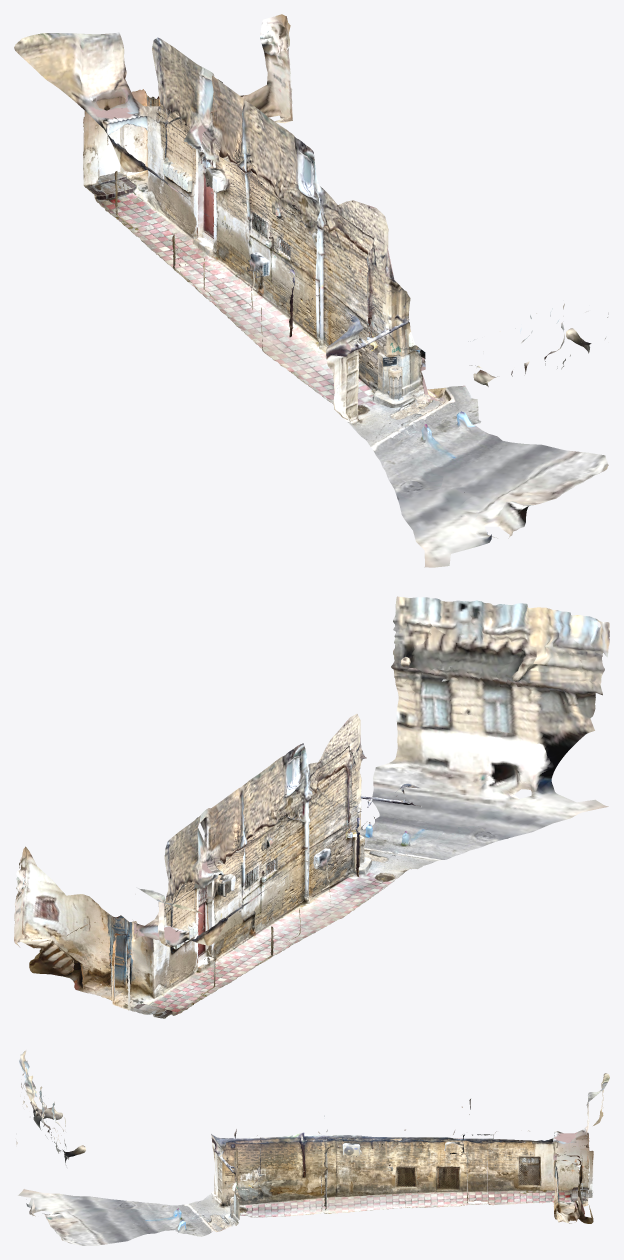
The picture shows the model from 3 angles, top to bottom: view 1: azimuth 30°, elevation 25°; view 2: azimuth 150°, elevation 25°; view 3: azimuth 270°, elevation 25°; orthographic projection. The views are drawn at different scales.
Parts seen in each view (by area): view 1: Object_4; view 2: Object_4; view 3: Object_4.
Boxes of the visible parts, x1,y1,x2,y2 form: Object_4: (14, 14, 608, 567); Object_4: (14, 596, 609, 1018); Object_4: (16, 1050, 609, 1245).
Bounding box in the file's own units: 9.98 × 7.45 × 28.31.
Materials: 1 (1 with a texture image).
